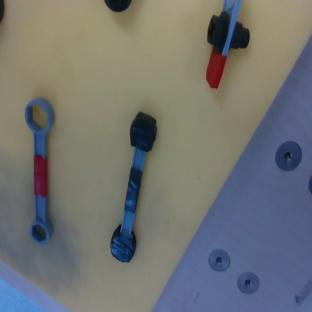part_1_good: (206, 0, 250, 88)
part_3_bad: (107, 111, 160, 263)
part_3_good: (25, 98, 54, 244)
